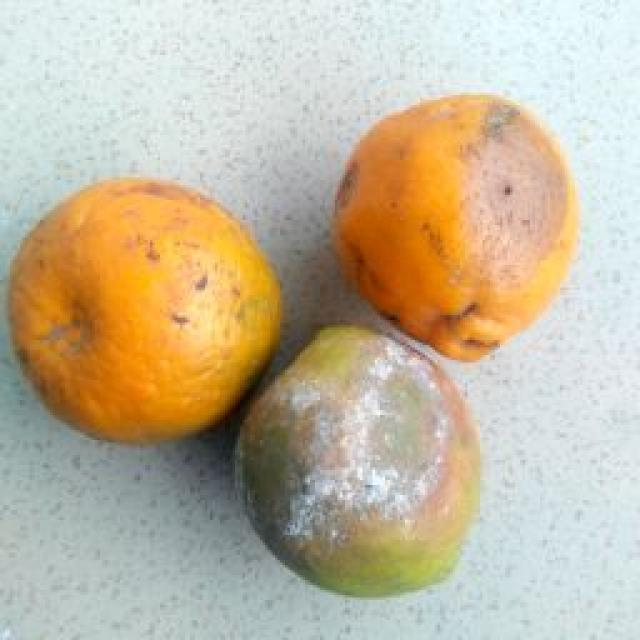Bad_Orange: (238, 326, 479, 596), (334, 94, 579, 359)
